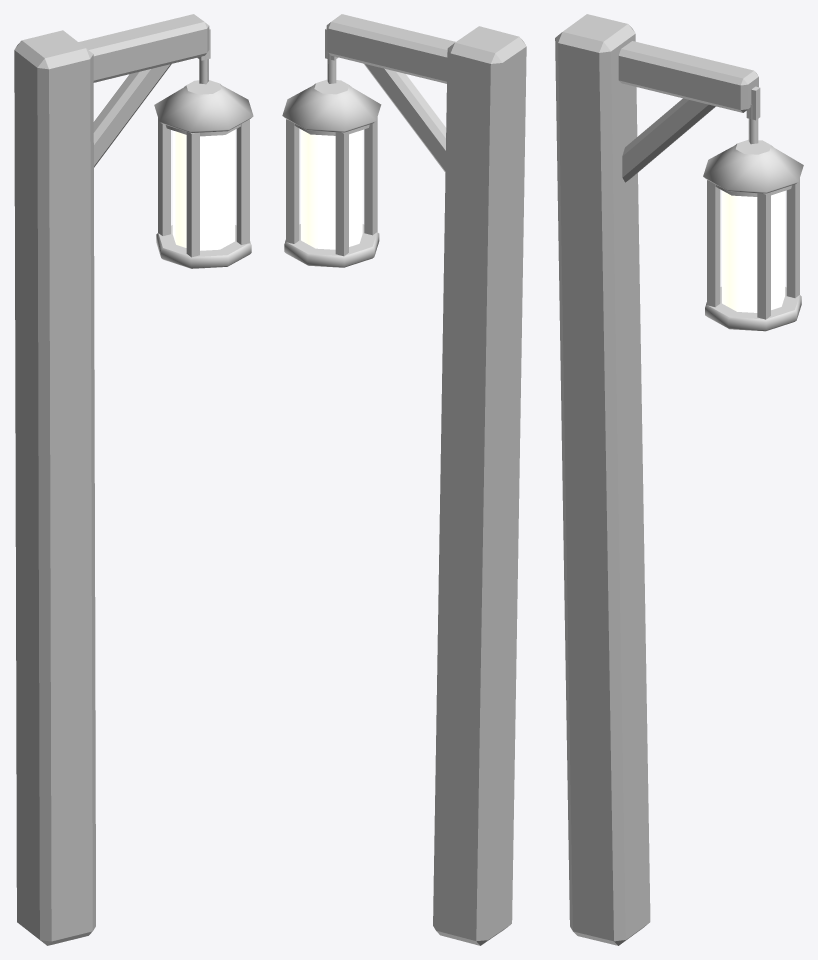
The model's file is LampPost.fbx.
The picture shows the model from 3 angles, left to right: view 1: azimuth 30°, elevation 25°; view 2: azimuth 150°, elevation 25°; view 3: azimuth 330°, elevation 25°; orthographic projection.
Visible parts, largest first — view 1: LampPost__wood_dark, LampPost__iron, LampPost__glow_lantern; view 2: LampPost__wood_dark, LampPost__iron, LampPost__glow_lantern; view 3: LampPost__wood_dark, LampPost__iron, LampPost__glow_lantern.
Boxes of the visible parts, x1,y1,x2,y2 form: LampPost__wood_dark: [14, 14, 209, 945]; LampPost__iron: [154, 28, 253, 268]; LampPost__glow_lantern: [172, 130, 234, 250]; LampPost__wood_dark: [326, 14, 526, 945]; LampPost__iron: [282, 28, 381, 267]; LampPost__glow_lantern: [301, 129, 362, 249]; LampPost__wood_dark: [555, 14, 758, 945]; LampPost__iron: [703, 86, 803, 331]; LampPost__glow_lantern: [722, 190, 784, 312].
Bounding box in the file's own units: 2.43 × 9.21 × 0.96.
